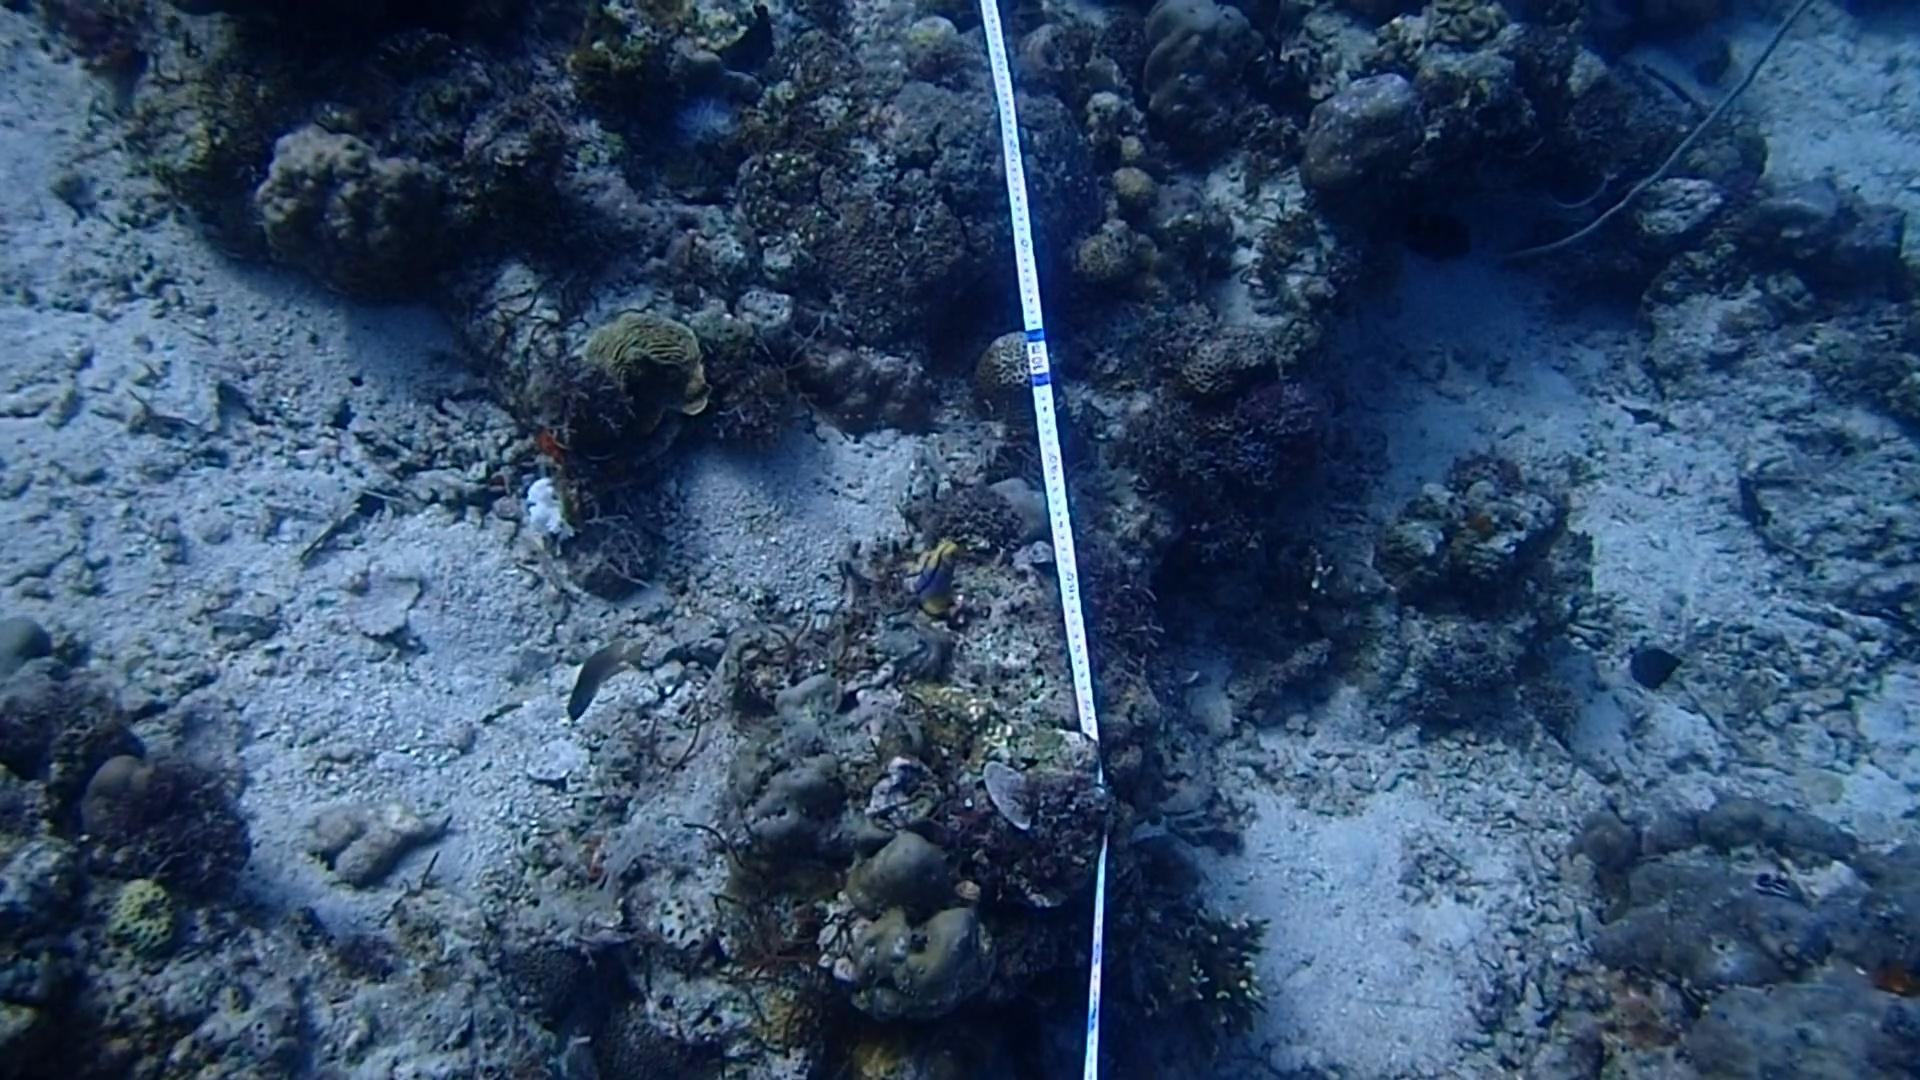Dark Fish: (705, 4, 791, 80), (1613, 637, 1687, 704)
Light Fish: (541, 630, 662, 724)
